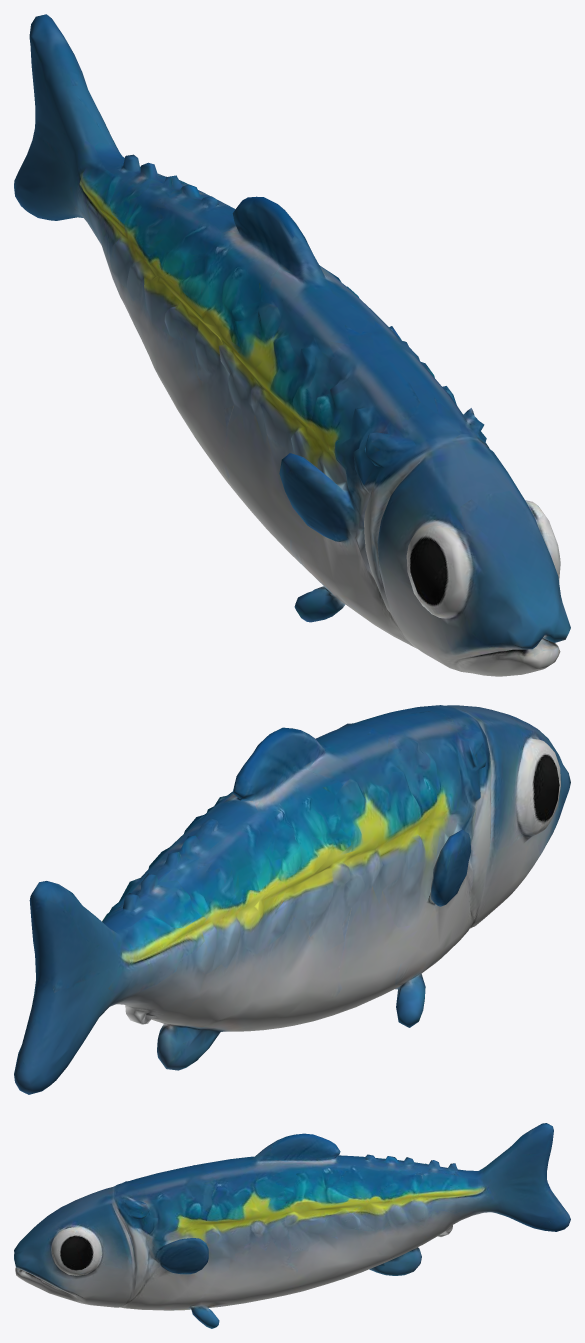
The model's file is anchovy.glb.
The picture shows the model from 3 angles, top to bottom: view 1: azimuth 30°, elevation 25°; view 2: azimuth 150°, elevation 25°; view 3: azimuth 270°, elevation 25°; orthographic projection. The views are drawn at different scales.
Visible parts, largest first — view 1: tripo_node_a5021096-eb80-4ea0-9d5d-d82a81920f03; view 2: tripo_node_a5021096-eb80-4ea0-9d5d-d82a81920f03; view 3: tripo_node_a5021096-eb80-4ea0-9d5d-d82a81920f03.
Boxes of the visible parts, box(x1,y1,x2,y2) form: tripo_node_a5021096-eb80-4ea0-9d5d-d82a81920f03: box(14, 14, 570, 676); tripo_node_a5021096-eb80-4ea0-9d5d-d82a81920f03: box(14, 705, 570, 1094); tripo_node_a5021096-eb80-4ea0-9d5d-d82a81920f03: box(14, 1123, 570, 1328).
Size of the model in its own units: 0.1862 by 0.3805 by 1.
Materials: 1 (1 with a texture image).
